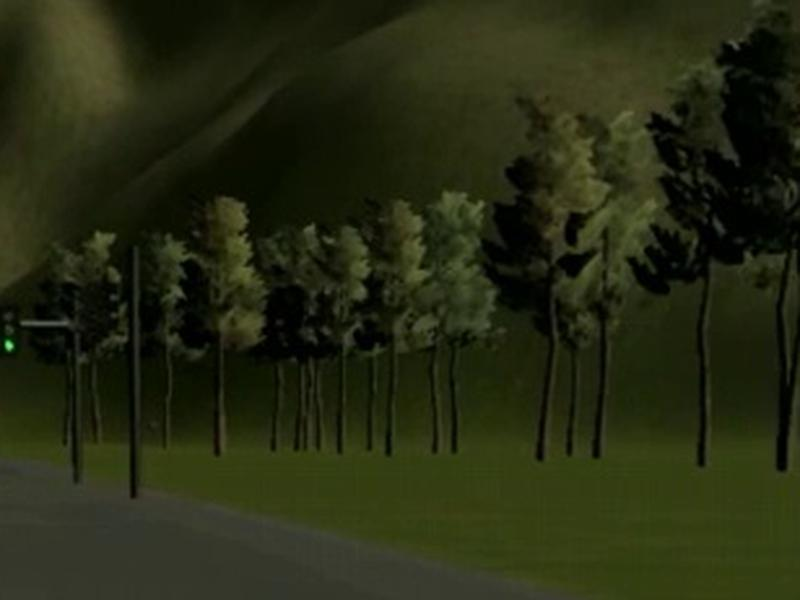Green: (1, 304, 18, 354)
